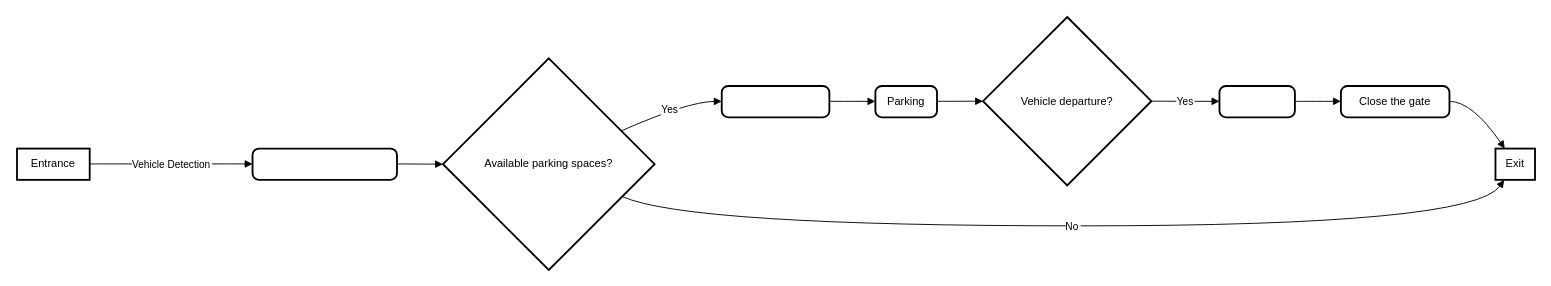
Some shapes in this 1551 by 286 pixel diagram are drawn without their labels. Here are the shapes that lost their labels. From the top down, the centre of each, then its label:
At point (775, 101): "Open the gate".
At point (1256, 101): "Checkout".
At point (324, 163): "Scan vehicle details".
